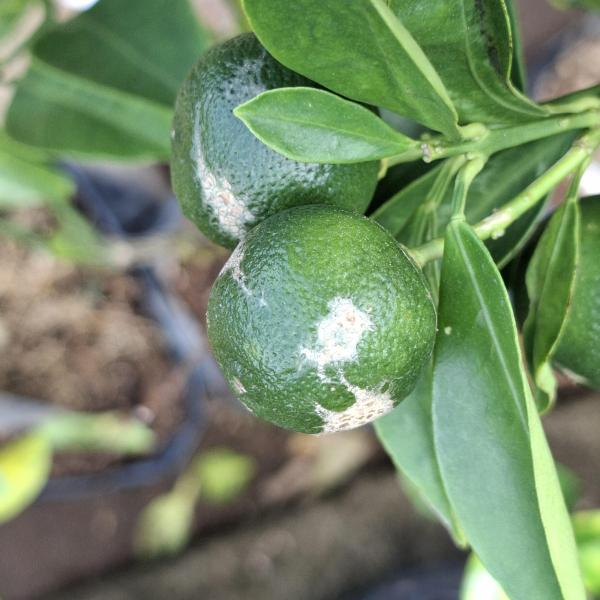Scab: (194, 210, 454, 446), (162, 31, 400, 246)
